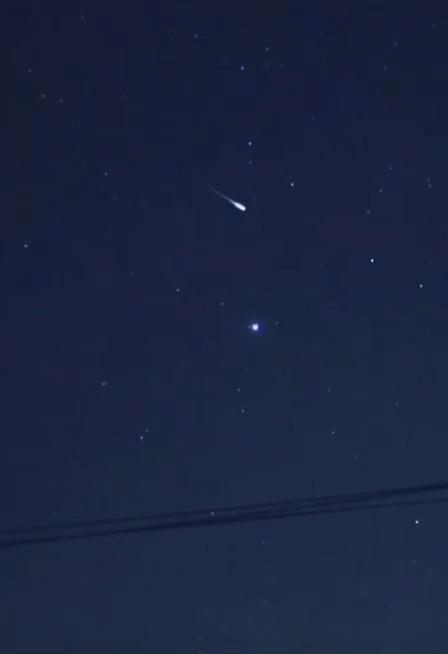meteorite: (189, 178, 260, 223)
